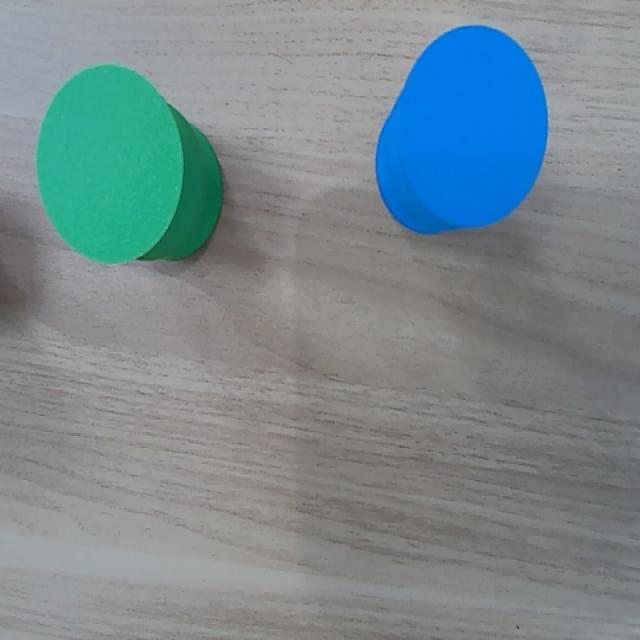b: (397, 26, 549, 226)
g: (36, 63, 184, 266)
